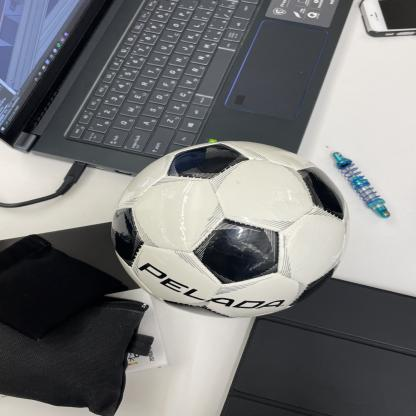ball: (114, 141, 352, 317)
